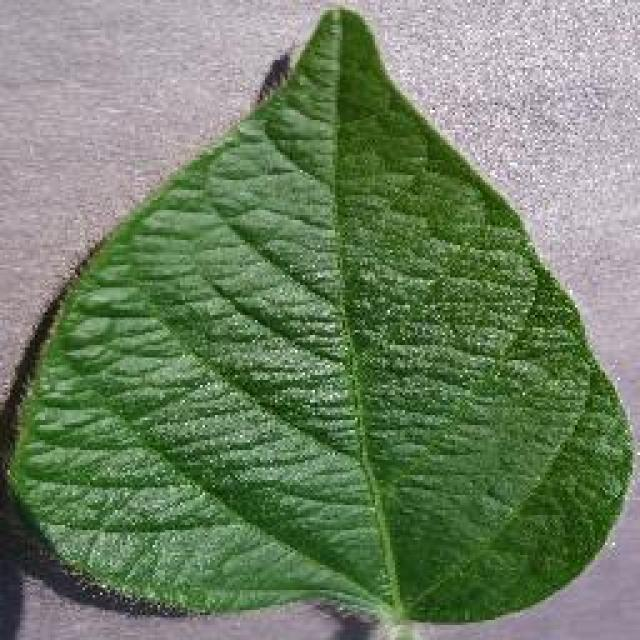Soy_healthy: (63, 119, 530, 591)
